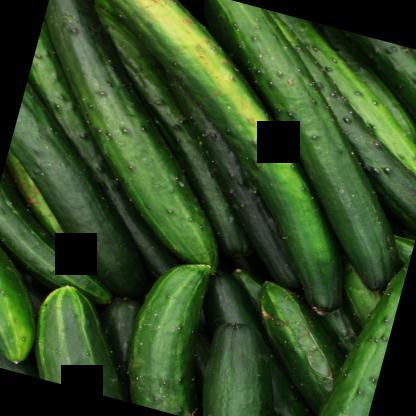cucumber: (0, 0, 405, 310), (138, 0, 415, 292), (0, 0, 279, 265), (0, 70, 187, 287), (300, 187, 415, 415), (0, 143, 149, 311), (266, 15, 415, 158), (117, 248, 241, 415), (18, 278, 152, 401), (235, 279, 360, 409), (189, 315, 295, 415), (0, 217, 61, 364)
